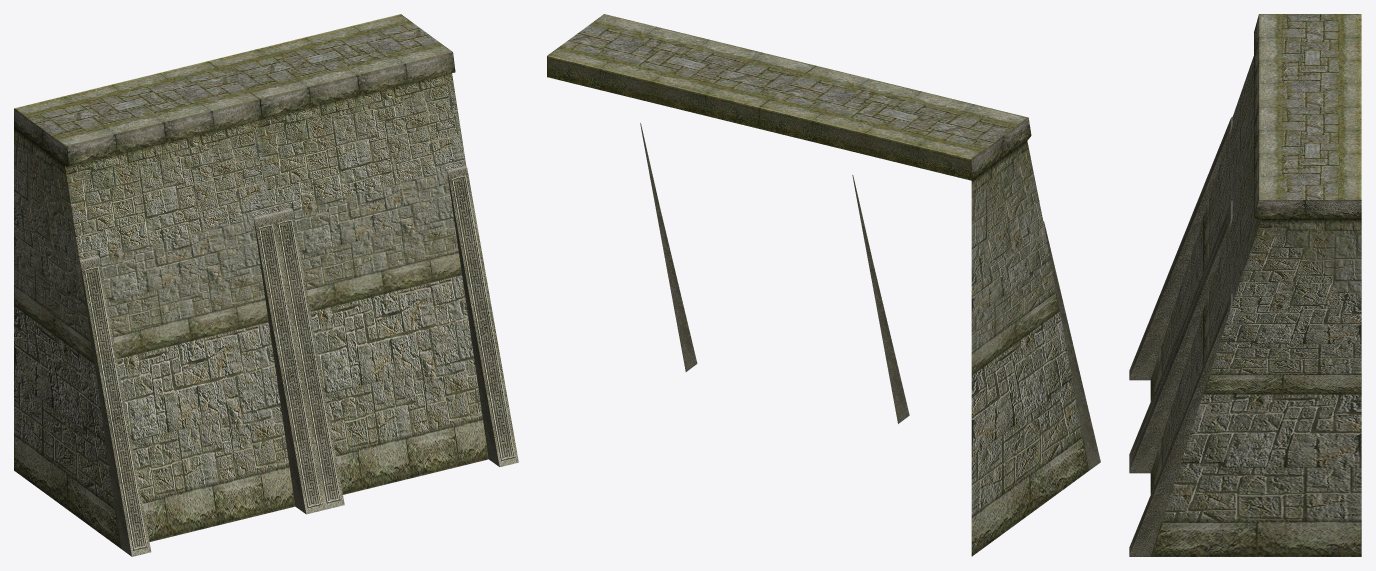
The model's file is secret_bigwall_02.glb.
3 renders of one model, left to right at view 1: azimuth 30°, elevation 25°; view 2: azimuth 150°, elevation 25°; view 3: azimuth 270°, elevation 25°, orthographic. The views are drawn at different scales.
Parts seen in each view (by area): view 1: secret_bigwall_02; view 2: secret_bigwall_02; view 3: secret_bigwall_02.
Part boxes in pixels (x1,y1,x2,y2): secret_bigwall_02: (14,14,518,556); secret_bigwall_02: (547,14,1100,556); secret_bigwall_02: (1129,14,1361,556).
Bounding box in the file's own units: 20 × 17.9 × 10.57.
1 material, 1 textured.
